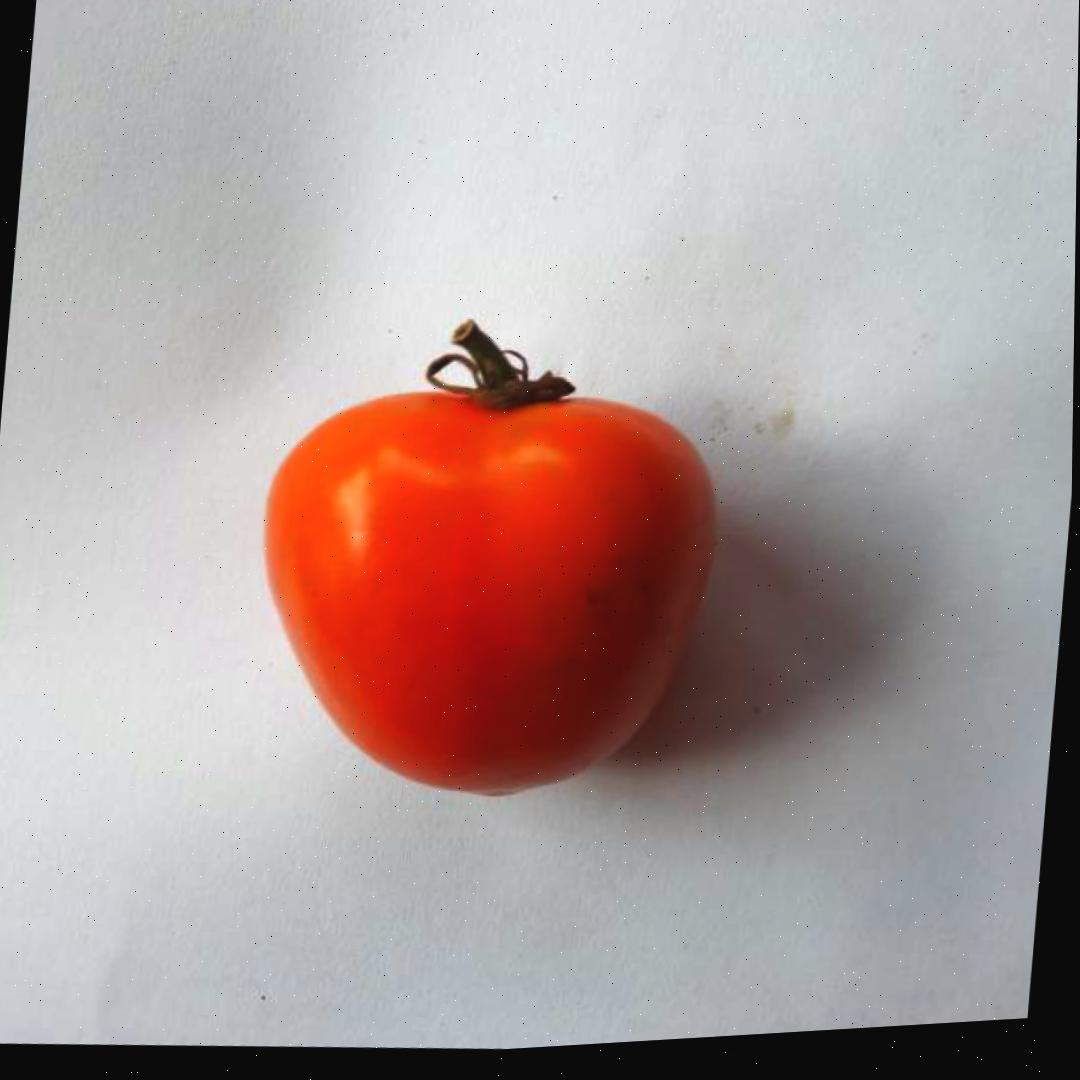setengah_matang: (236, 361, 729, 828)
